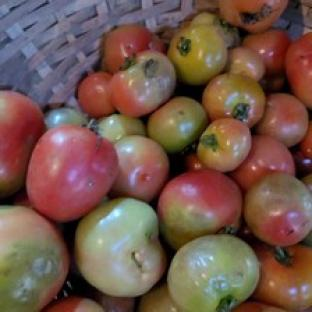Tomato: (74, 198, 167, 296), (27, 126, 118, 221), (0, 207, 69, 311), (168, 234, 260, 311), (158, 169, 243, 249), (243, 173, 311, 246), (0, 91, 45, 197), (111, 51, 176, 116), (109, 136, 169, 201), (253, 244, 311, 310), (230, 134, 295, 190), (168, 24, 227, 84), (202, 73, 266, 128), (147, 97, 208, 153), (101, 24, 165, 73), (254, 92, 309, 147), (197, 119, 252, 172), (241, 28, 291, 76), (286, 33, 311, 108), (190, 12, 240, 47), (77, 72, 115, 118), (97, 113, 146, 143), (225, 45, 266, 80), (137, 282, 179, 311), (45, 106, 89, 129), (42, 296, 104, 311), (233, 300, 286, 311), (183, 151, 206, 171), (299, 120, 311, 158)
